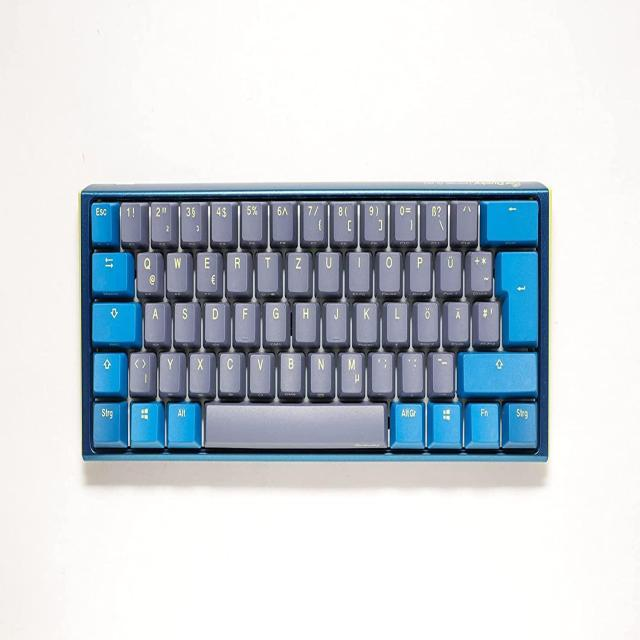0: (392, 196, 416, 241)
1: (120, 199, 142, 241)
2: (149, 198, 173, 242)
3: (179, 198, 203, 241)
4: (210, 198, 233, 241)
5: (240, 197, 263, 240)
6: (270, 197, 294, 240)
7: (301, 197, 324, 240)
8: (330, 197, 355, 242)
9: (361, 196, 385, 241)
a: (143, 298, 165, 341)
accent: (453, 196, 477, 240)
ae: (445, 297, 468, 341)
alt-left: (165, 398, 196, 442)
altgr-right: (392, 398, 424, 442)
b: (277, 348, 302, 392)
c: (217, 349, 242, 392)
comma: (369, 348, 393, 392)
d: (203, 298, 226, 341)
del: (484, 196, 537, 240)
e: (195, 248, 219, 292)
enter: (498, 246, 538, 345)
f: (233, 298, 256, 341)
g: (263, 298, 286, 341)
h: (293, 298, 316, 341)
hash: (475, 297, 499, 342)
i: (346, 248, 370, 290)
j: (323, 298, 346, 341)
k: (353, 298, 377, 341)
keyboard: (78, 176, 552, 468)
l: (384, 298, 407, 341)
less: (128, 348, 151, 393)
m: (338, 348, 363, 394)
minus: (429, 349, 453, 392)
n: (308, 349, 332, 393)
o: (376, 247, 400, 291)
oe: (413, 298, 438, 341)
p: (407, 247, 431, 291)
plus: (467, 246, 492, 291)
point: (400, 349, 424, 392)
q: (134, 248, 161, 293)
r: (225, 248, 249, 291)
s: (172, 298, 195, 341)
shift-left: (91, 349, 120, 392)
shift-lock: (90, 299, 137, 342)
shift-right: (459, 348, 536, 393)
space: (203, 400, 387, 448)
ss: (423, 197, 447, 240)
strg-left: (90, 398, 121, 443)
strg-right: (505, 398, 538, 445)
t: (255, 248, 278, 291)
tab: (91, 248, 127, 290)
u: (316, 248, 340, 291)
ue: (436, 246, 461, 292)
v: (247, 349, 272, 393)
w: (165, 248, 188, 291)
x: (188, 349, 211, 392)
y: (158, 348, 181, 392)
z: (286, 248, 310, 291)
